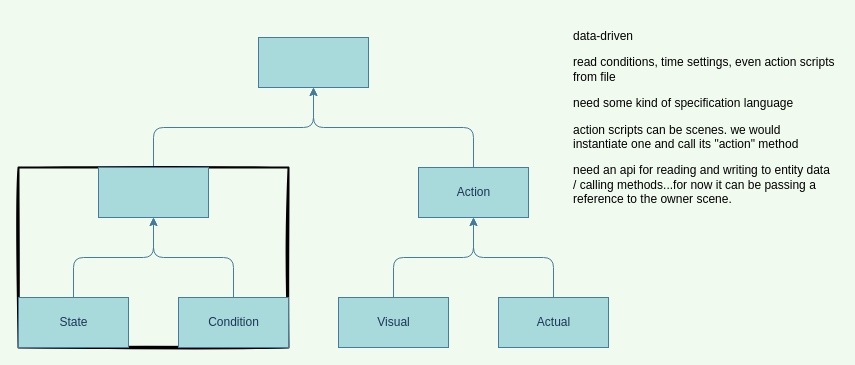
Image size: 855x365. Some labels were removed from this diagram. Here are the shapes that lost their labels. From the top down, the centre of each, then its label:
the point at 313,62: Contract
the point at 153,192: Context
